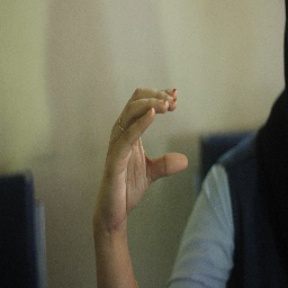C: (105, 83, 202, 188)
